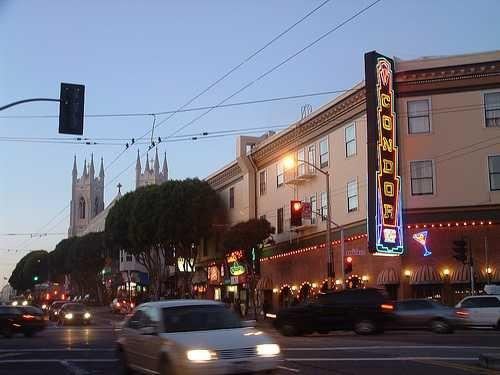red: (291, 200, 303, 228)
